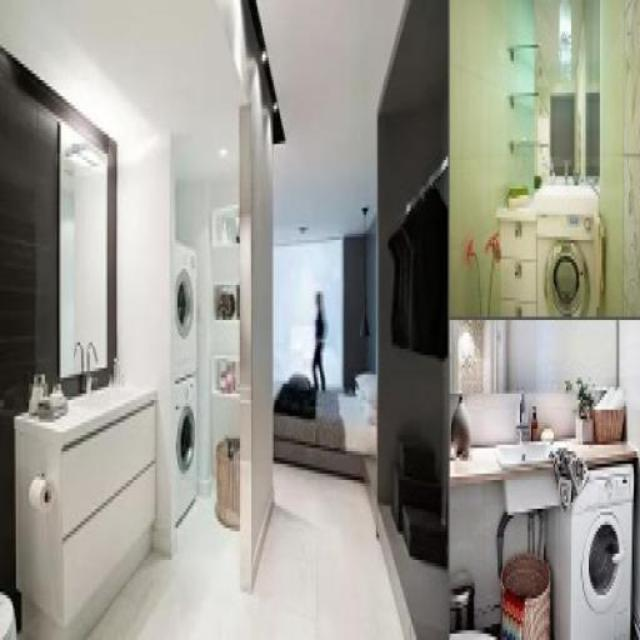Washing-Machine: (562, 466, 634, 640), (540, 210, 592, 316), (175, 377, 198, 518), (174, 245, 198, 371)
